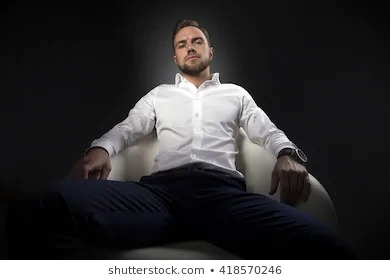F_shirt: (94, 72, 302, 175)
